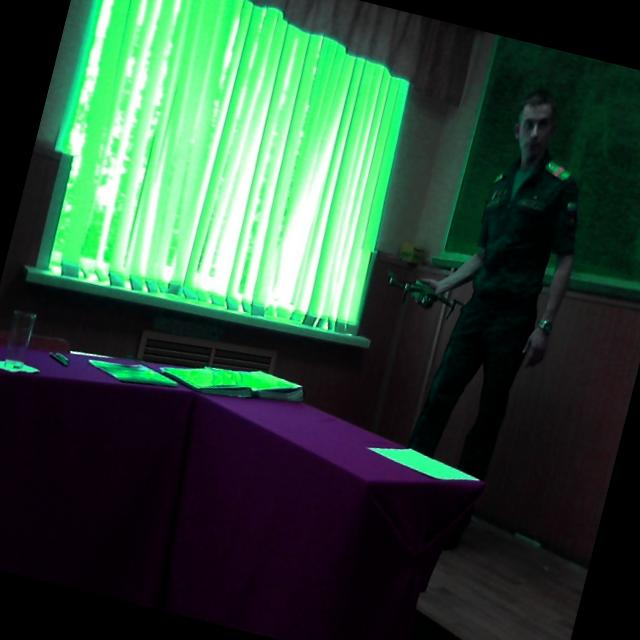drone: (366, 250, 477, 337)
